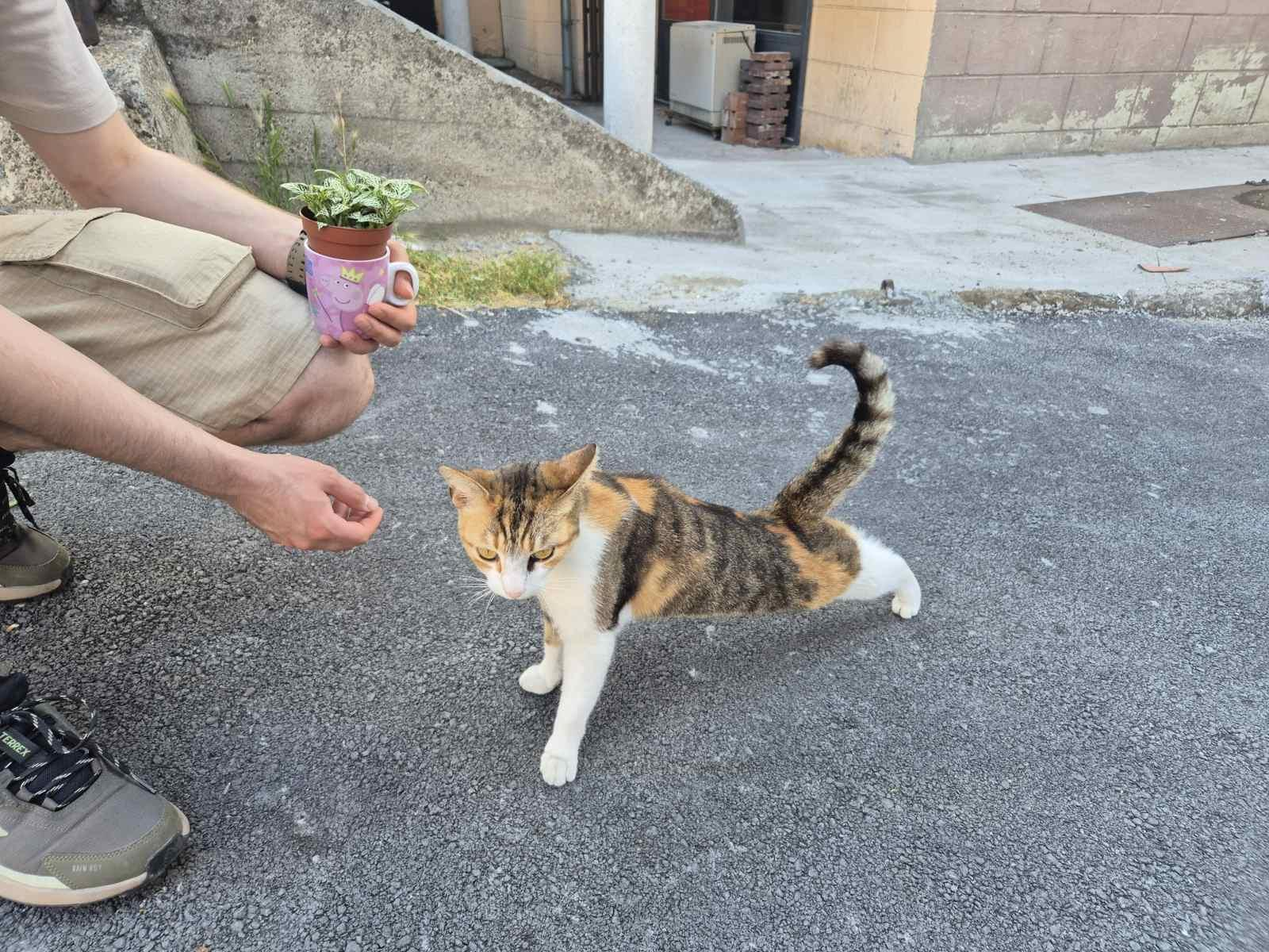macka: (442, 337, 924, 791)
